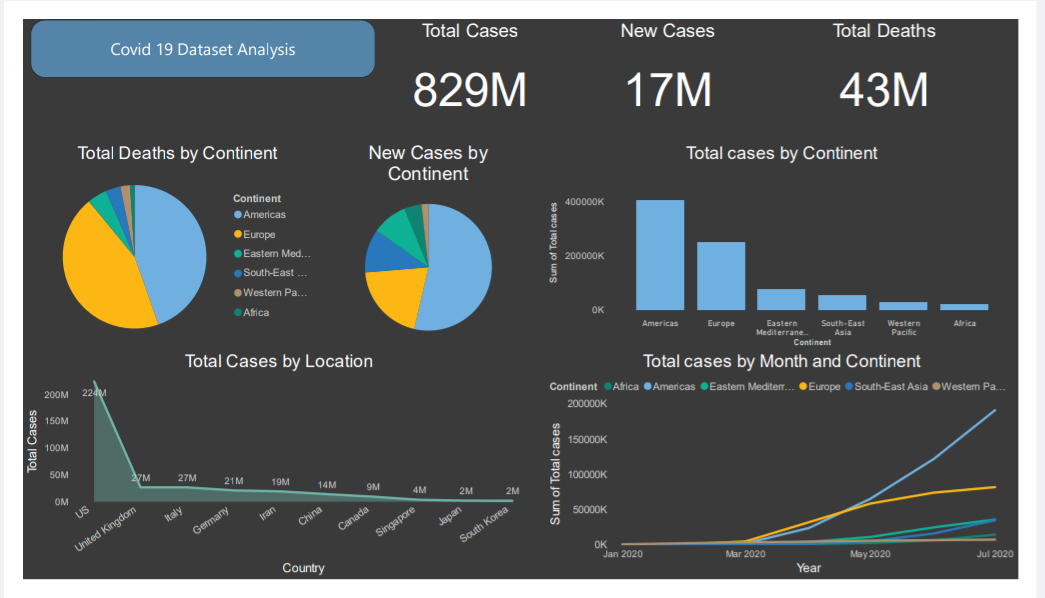

This screenshot's page, from the dashboard's own definition file:
{"tool":"powerbi","page":{"name":"Page 4","canvas":[1280,720],"ordinal":0},"visuals":[{"type":"shape","title":"Covid 19 Dataset Analysis","box":[10.1,0,443.7,75.3],"z":0},{"type":"pieChart","title":"Total Deaths by Continent","fields":{"Category":["Covid 19.Continent"],"Y":["Sum(Covid 19.Total Deaths)"]},"box":[11.8,158.8,373.9,267.5],"z":0,"group":"g1"},{"type":"group","id":"g1","title":"Group 2","box":[11.8,157.9,647,268.5],"z":10,"group":"g2"},{"type":"card","title":"Total Cases","fields":{"Values":["Sum(Covid 19.Total cases)"]},"box":[463.9,2.2,223.5,144.9],"z":1000},{"type":"pieChart","title":"New Cases by Continent","fields":{"Category":["Covid 19.Continent"],"Y":["Sum(Covid 19.New cases)"]},"box":[385.1,157.9,273.7,268.5],"z":1000,"group":"g1"},{"type":"card","title":"Total Deaths","fields":{"Values":["Sum(Covid 19.Total Deaths)"]},"box":[992.9,2.2,231.4,144.9],"z":2000},{"type":"card","title":"New Cases","fields":{"Values":["Sum(Covid 19.New cases)"]},"box":[714.4,2.2,231.4,144.9],"z":3000},{"type":"group","id":"g2","title":"Group 1","box":[11.8,157.9,647,268.5],"z":4000},{"type":"areaChart","title":"Total Cases by Location","fields":{"Category":["Covid 19.Location"],"Y":["Sum(Covid 19.Total cases)"]},"box":[0,425.7,659.3,294.3],"z":5000},{"type":"clusteredColumnChart","title":"Total cases by Continent","fields":{"Category":["Covid 19.Continent"],"Y":["Sum(Covid 19.Total cases)"]},"box":[673,159.2,607,266.6],"z":6000},{"type":"lineChart","title":"Total cases by Month and Continent","fields":{"Y":["Sum(Covid 19.Total cases)"],"Series":["Covid 19.Continent"],"Category":["Covid 19.Date.Variation.Date Hierarchy.Year","Covid 19.Date.Variation.Date Hierarchy.Month"]},"box":[673,425.8,607,293.8],"z":7000},{"type":"lineChart","title":"Total cases by Month and Continent","fields":{"Y":["Sum(Covid 19.Total cases)"],"Series":["Covid 19.Continent"],"Category":["Covid 19.Date.Variation.Date Hierarchy.Year","Covid 19.Date.Variation.Date Hierarchy.Month"]},"box":[673,426.2,607,293.8],"z":8000}]}

Visuals, with their boxes in screenshot pixels (x1, y1, x2, y2), scaled from the page's 1280x720 canvas onto the 1045x598 screenshot:
"Covid 19 Dataset Analysis" shape: box(8, 0, 370, 63)
"Total Deaths by Continent" pieChart: box(10, 132, 315, 354)
"Group 2" group: box(10, 131, 538, 354)
"Total Cases" card: box(379, 2, 561, 122)
"New Cases by Continent" pieChart: box(314, 131, 538, 354)
"Total Deaths" card: box(811, 2, 1000, 122)
"New Cases" card: box(583, 2, 772, 122)
"Group 1" group: box(10, 131, 538, 354)
"Total Cases by Location" areaChart: box(0, 354, 538, 597)
"Total cases by Continent" clusteredColumnChart: box(549, 132, 1044, 354)
"Total cases by Month and Continent" lineChart: box(549, 354, 1044, 597)
"Total cases by Month and Continent" lineChart: box(549, 354, 1044, 597)
